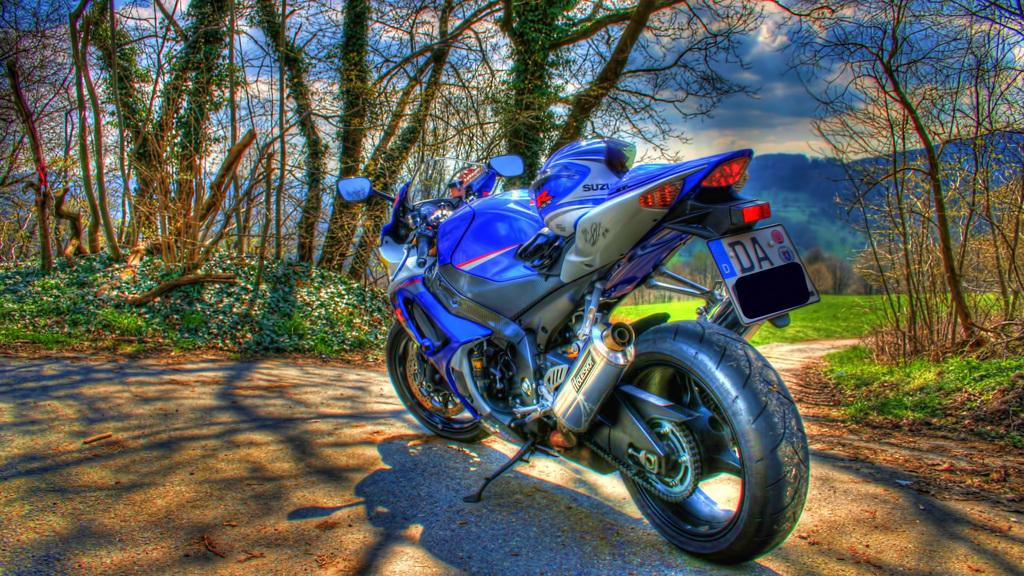helmet: (534, 137, 646, 241)
